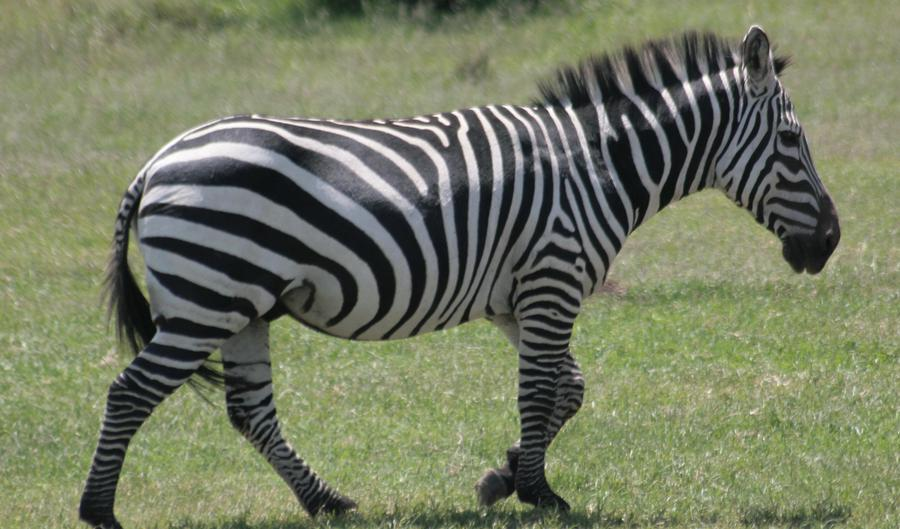zebra_plains: (151, 87, 605, 350)
